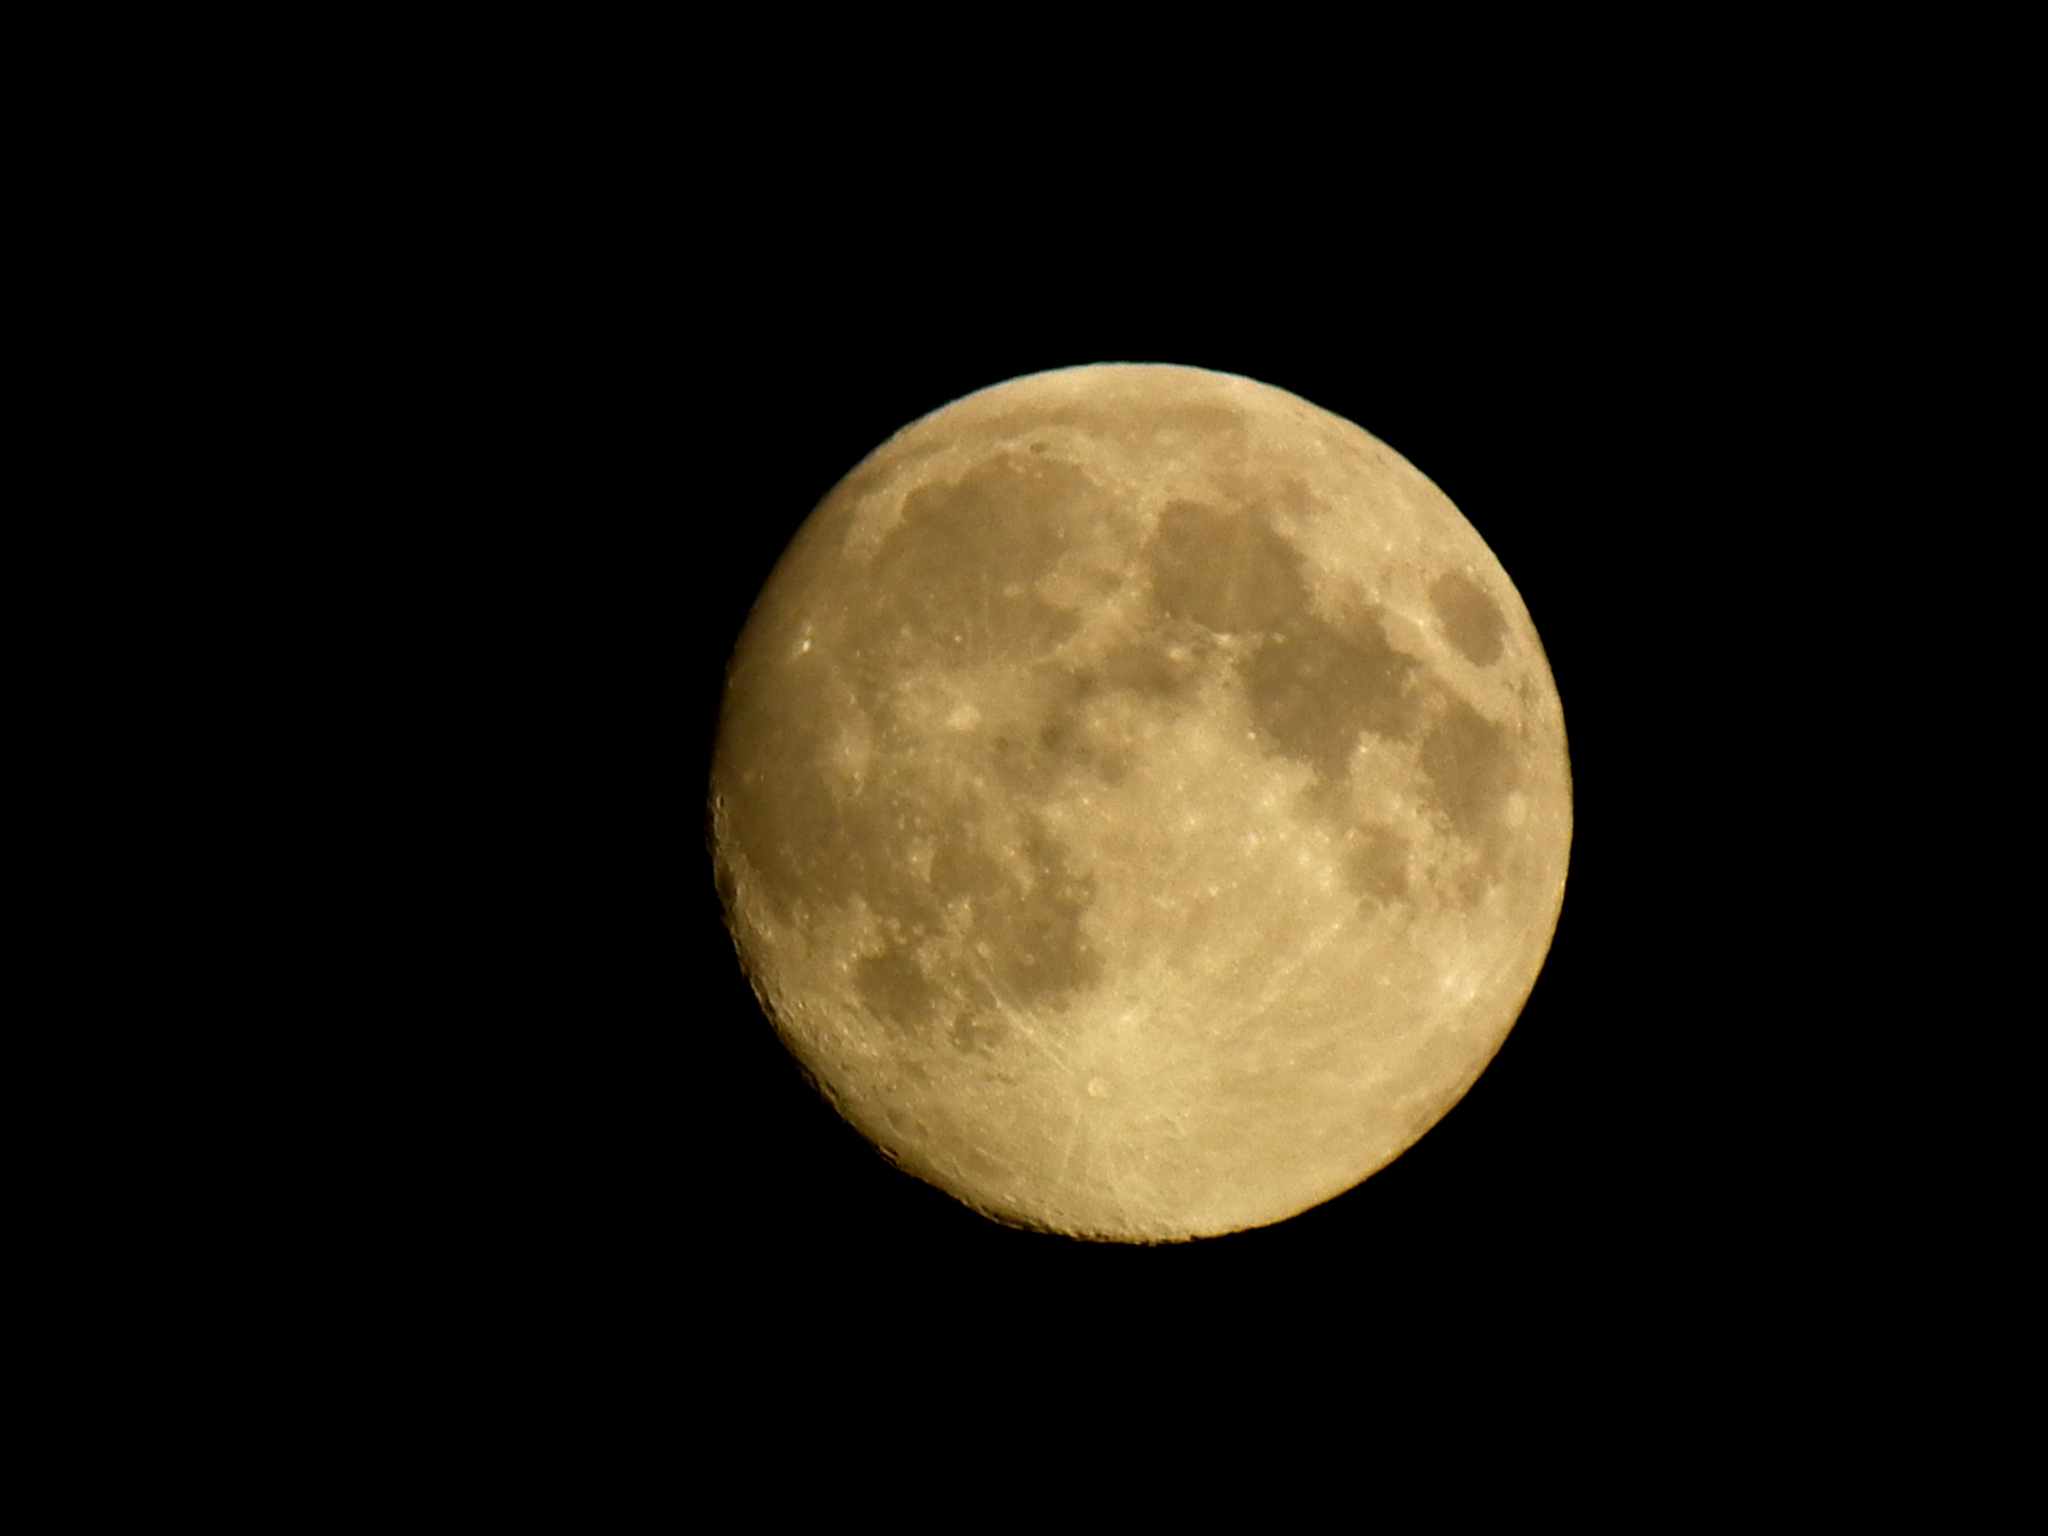crater: (1130, 470, 1337, 658), (1022, 1021, 1172, 1147), (837, 941, 951, 1050), (918, 674, 1035, 779), (776, 626, 839, 666), (884, 1105, 943, 1147), (1493, 773, 1529, 839), (1014, 426, 1061, 465), (1350, 886, 1387, 934), (1400, 607, 1435, 634), (947, 624, 972, 657), (1198, 874, 1222, 902), (1238, 726, 1266, 749), (1076, 791, 1098, 815)
